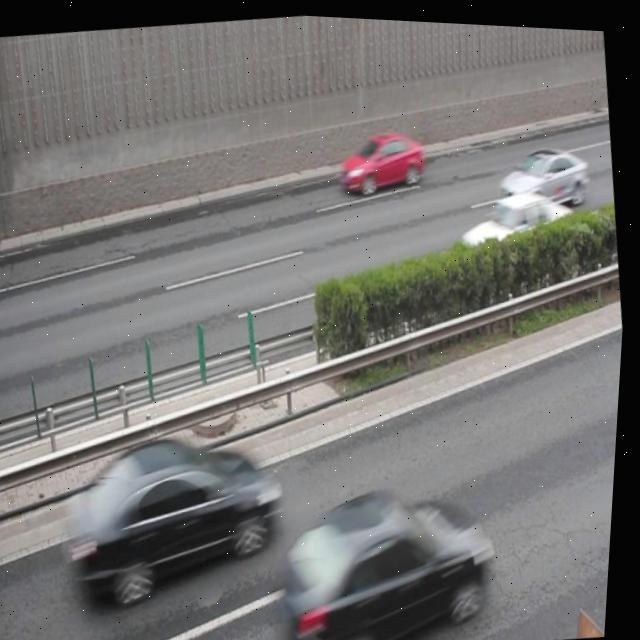car: (55, 423, 290, 614), (274, 468, 509, 640), (452, 176, 590, 273), (336, 118, 430, 197), (495, 133, 592, 208)
